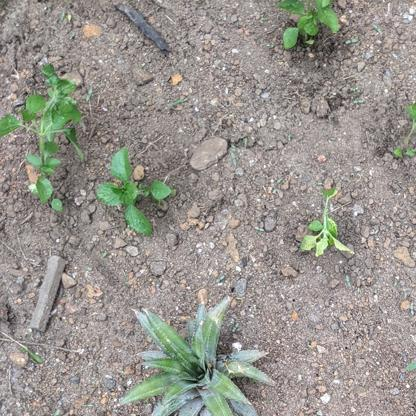pineapple: (115, 297, 274, 416)
weed: (3, 64, 85, 208), (94, 146, 176, 239), (296, 186, 357, 267), (275, 1, 343, 51)
